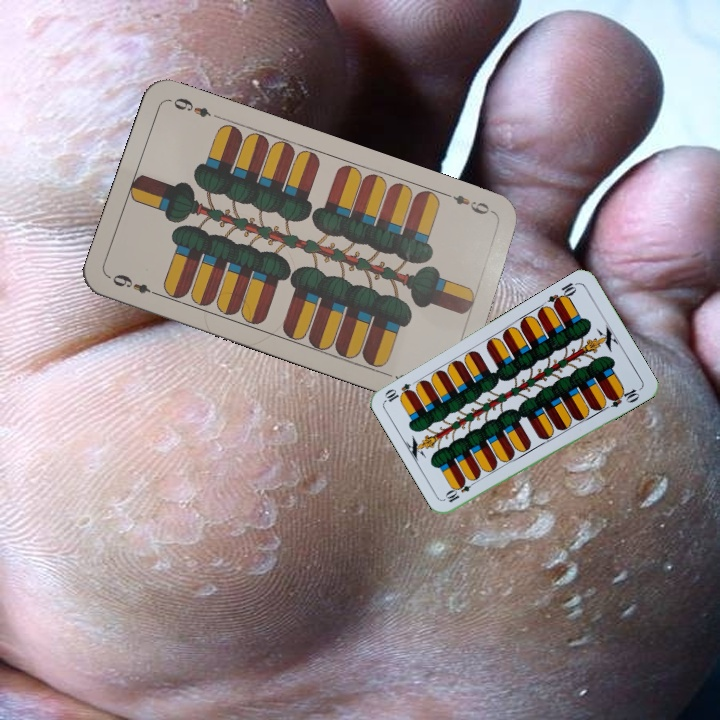E10: (544, 278, 581, 310), (442, 475, 479, 505)
E9: (441, 189, 499, 218), (108, 270, 163, 299)
